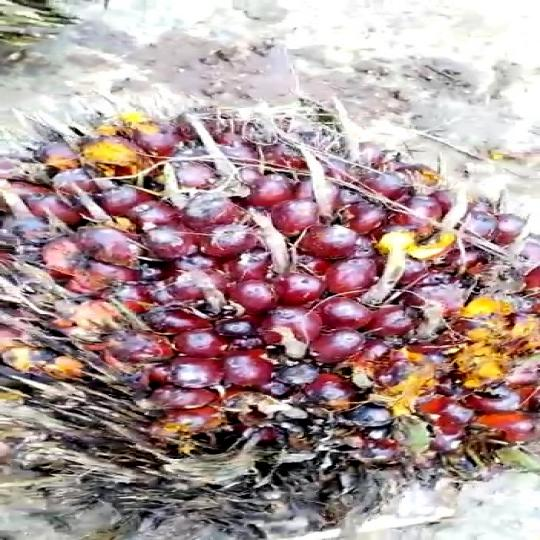masak: (0, 97, 540, 540)
